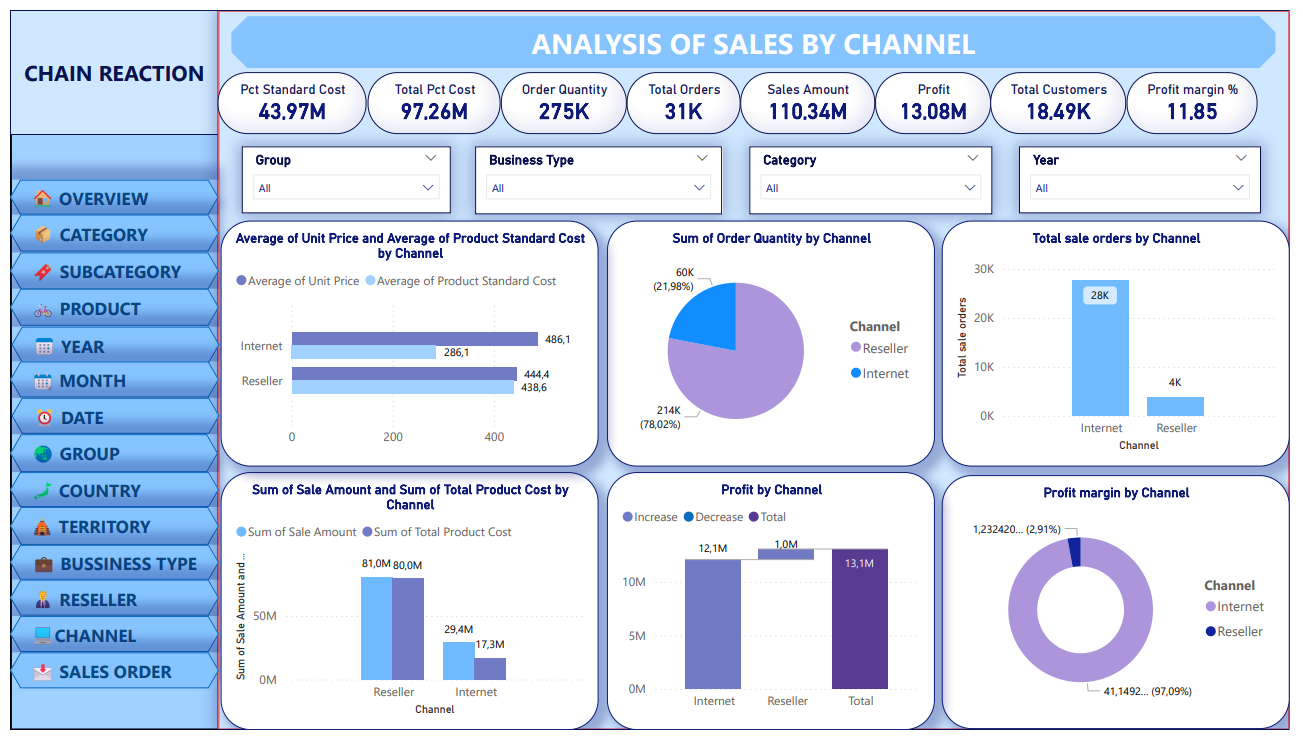

This screenshot's page, from the dashboard's own definition file:
{"tool":"powerbi","page":{"name":"Channel","canvas":[1280,720],"ordinal":12},"visuals":[{"type":"shape","box":[0,0,209.9,720.4],"z":0},{"type":"shape","title":"dbdbdjb","box":[235.7,0,1044.3,52.1],"z":1000},{"type":"shape","box":[0.4,0,209.1,124.7],"z":2000},{"type":"shape","box":[207.6,0,1072.4,720.2],"z":3000},{"type":"shape","box":[0,170.1,208.6,35],"z":4000},{"type":"shape","box":[0,205,209,37],"z":5000},{"type":"shape","box":[0,242,209,37],"z":6000},{"type":"shape","box":[0,279,209,37],"z":7000},{"type":"shape","box":[1,316,208,36],"z":8000},{"type":"shape","box":[0,352,209,36],"z":9000},{"type":"shape","box":[1,388,208,36],"z":10000},{"type":"shape","box":[0,424,208,38],"z":11000},{"type":"shape","box":[0,462,209,35],"z":12000},{"type":"shape","box":[0,497,209,38],"z":13000},{"type":"shape","box":[0,535,209,35],"z":14000},{"type":"shape","box":[0,570,209,36],"z":15000},{"type":"shape","box":[0,606,209,36],"z":16000},{"type":"shape","box":[0,642,209,36],"z":17000},{"type":"card","title":"Order Quantity","fields":{"Values":["Sum(Sales.Order Quantity)"]},"box":[490.4,62.4,126,62.4],"z":18000},{"type":"card","title":"Pct Standard Cost","fields":{"Values":["Sum(Sales.Product Standard Cost)"]},"box":[207.9,62.4,149.2,62.4],"z":19000},{"type":"card","title":"Sales Amount","fields":{"Values":["Sum(Sales.Sale Amount)"]},"box":[730,62.4,134.5,62.4],"z":20000},{"type":"card","title":"Profit","fields":{"Values":["Sales.Profit"]},"box":[864.5,62.4,116.2,62.4],"z":21000},{"type":"card","title":"Total Pct Cost","fields":{"Values":["Sum(Sales.Total Product Cost)"]},"box":[357.1,62.4,133.3,62.4],"z":22000},{"type":"card","title":"Total Orders","fields":{"Values":["Sales.Total sale orders"]},"box":[616.3,62.4,113.7,62.4],"z":23000},{"type":"card","title":"Total Customers","fields":{"Values":["Count(Customer.Customer ID)"]},"box":[980.7,62.4,135.7,62.4],"z":24000},{"type":"card","title":"Profit margin %","fields":{"Values":["Sales.Profit margin"]},"box":[1116.4,62.4,130.8,62.4],"z":25000},{"type":"slicer","title":"Date","fields":{"Values":["Date.Year"]},"box":[1009.6,135.9,242,66.8],"z":27000},{"type":"slicer","title":"Category","fields":{"Values":["Category.Category"]},"box":[739.1,135.9,243.2,67.9],"z":28000},{"type":"slicer","title":"Channel","fields":{"Values":["Business Type.Business Type"]},"box":[464.9,137.1,246.7,67.9],"z":29000},{"type":"slicer","title":"Group","fields":{"Values":["Group.Group"]},"box":[231.3,137.1,208.6,66.8],"z":30000},{"type":"shape","title":"dbdbdjb","box":[221.1,5.6,1044.4,52.2],"z":31000},{"type":"pieChart","fields":{"Category":["Channel.Channel"],"Y":["Sum(Sales.Order Quantity)"]},"box":[596.7,210.1,327.8,245.6],"z":32000},{"type":"clusteredColumnChart","fields":{"Category":["Channel.Channel"],"Y":["Sum(Sales.Sale Amount)","Sum(Sales.Total Product Cost)"]},"box":[210,462.2,377.8,257.8],"z":33000},{"type":"clusteredBarChart","fields":{"Category":["Channel.Channel"],"Y":["Avg(Sales.Unit Price)","Avg(Sales.Product Standard Cost)"]},"box":[210,210.1,377.8,245.6],"z":34000},{"type":"lineClusteredColumnComboChart","fields":{"Category":["Channel.Channel"],"Y":["Sales.Total sale orders"]},"box":[932.2,210.1,347.8,245.6],"z":35000},{"type":"donutChart","title":"Profit margin by Channel","fields":{"Category":["Channel.Channel"],"Y":["Sales.Profit margin"]},"box":[932.2,465.6,347.8,254.4],"z":36000},{"type":"waterfallChart","fields":{"Category":["Channel.Channel"],"Y":["Sales.Profit"]},"box":[596.7,462.2,327.8,257.8],"z":37000}]}

Visuals, with their boxes in screenshot pixels (x1, y1, x2, y2), scaled from the page's 1280x720 canvas onto the 1303x743 screenshot:
shape: x1=0 y1=0 x2=214 y2=742
"dbdbdjb" shape: x1=240 y1=0 x2=1302 y2=54
shape: x1=0 y1=0 x2=213 y2=129
shape: x1=211 y1=0 x2=1302 y2=742
shape: x1=0 y1=176 x2=212 y2=212
shape: x1=0 y1=212 x2=213 y2=250
shape: x1=0 y1=250 x2=213 y2=288
shape: x1=0 y1=288 x2=213 y2=326
shape: x1=1 y1=326 x2=213 y2=363
shape: x1=0 y1=363 x2=213 y2=400
shape: x1=1 y1=400 x2=213 y2=438
shape: x1=0 y1=438 x2=212 y2=477
shape: x1=0 y1=477 x2=213 y2=513
shape: x1=0 y1=513 x2=213 y2=552
shape: x1=0 y1=552 x2=213 y2=588
shape: x1=0 y1=588 x2=213 y2=625
shape: x1=0 y1=625 x2=213 y2=663
shape: x1=0 y1=663 x2=213 y2=700
"Order Quantity" card: x1=499 y1=64 x2=627 y2=129
"Pct Standard Cost" card: x1=212 y1=64 x2=364 y2=129
"Sales Amount" card: x1=743 y1=64 x2=880 y2=129
"Profit" card: x1=880 y1=64 x2=998 y2=129
"Total Pct Cost" card: x1=364 y1=64 x2=499 y2=129
"Total Orders" card: x1=627 y1=64 x2=743 y2=129
"Total Customers" card: x1=998 y1=64 x2=1136 y2=129
"Profit margin %" card: x1=1136 y1=64 x2=1270 y2=129
"Date" slicer: x1=1028 y1=140 x2=1274 y2=209
"Category" slicer: x1=752 y1=140 x2=1000 y2=210
"Channel" slicer: x1=473 y1=141 x2=724 y2=212
"Group" slicer: x1=235 y1=141 x2=448 y2=210
"dbdbdjb" shape: x1=225 y1=6 x2=1288 y2=60
pieChart - Channel.Channel x Sum(Sales.Order Quantity): x1=607 y1=217 x2=941 y2=470
clusteredColumnChart - Channel.Channel x Sum(Sales.Sale Amount): x1=214 y1=477 x2=598 y2=742
clusteredBarChart - Channel.Channel x Avg(Sales.Unit Price): x1=214 y1=217 x2=598 y2=470
lineClusteredColumnComboChart - Channel.Channel x Sales.Total sale orders: x1=949 y1=217 x2=1302 y2=470
"Profit margin by Channel" donutChart: x1=949 y1=480 x2=1302 y2=742
waterfallChart - Channel.Channel x Sales.Profit: x1=607 y1=477 x2=941 y2=742
